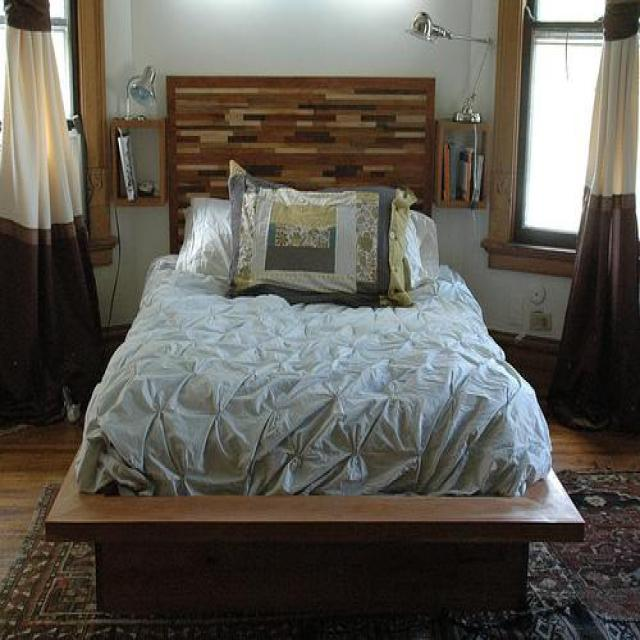bed: (45, 74, 585, 623)
